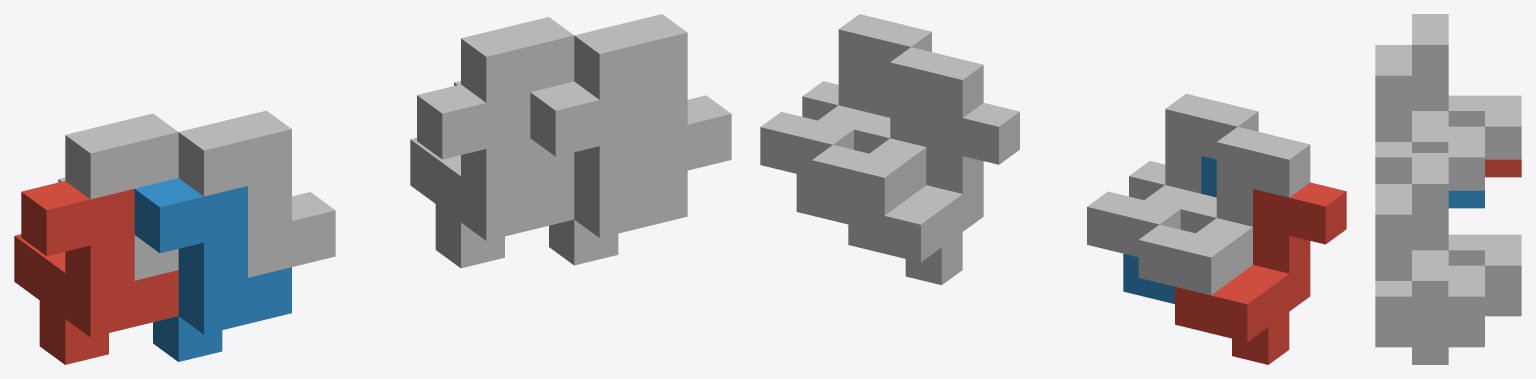
File: tiling.obj
3 renders of one model, left to right at view 1: azimuth 30°, elevation 25°; view 2: azimuth 150°, elevation 25°; view 3: azimuth 270°, elevation 25°, orthographic. The views are drawn at different scales.
Visible parts, largest first — view 1: copy_1_domain_5, copy_1_domain_1, copy_1_domain_6, copy_1_domain_2, copy_1_domain_8, copy_1_domain_4, copy_1_domain_3, copy_1_domain_7; view 2: copy_1_domain_5, copy_1_domain_1, copy_1_domain_3, copy_1_domain_7, copy_1_domain_8, copy_1_domain_4, copy_1_domain_6, copy_1_domain_2; view 3: copy_1_domain_8, copy_1_domain_4, copy_1_domain_3, copy_1_domain_7, copy_1_domain_6, copy_1_domain_1, copy_1_domain_5, copy_1_domain_2.
Boxes of the visible parts, x1,y1,x2,y2 form: copy_1_domain_5: (410, 84, 574, 268); copy_1_domain_1: (14, 181, 178, 364); copy_1_domain_6: (530, 81, 687, 265); copy_1_domain_2: (134, 178, 291, 361); copy_1_domain_8: (574, 14, 731, 180); copy_1_domain_4: (178, 110, 335, 277); copy_1_domain_3: (58, 113, 178, 280); copy_1_domain_7: (454, 17, 574, 183); copy_1_domain_5: (848, 103, 1019, 285); copy_1_domain_1: (1175, 182, 1346, 364); copy_1_domain_3: (1138, 127, 1310, 295); copy_1_domain_7: (812, 47, 983, 215); copy_1_domain_8: (760, 14, 931, 177); copy_1_domain_4: (1087, 93, 1258, 257); copy_1_domain_6: (796, 76, 890, 224); copy_1_domain_2: (1123, 156, 1216, 303); copy_1_domain_8: (1375, 184, 1484, 347); copy_1_domain_4: (1375, 45, 1484, 190); copy_1_domain_3: (1412, 14, 1521, 159); copy_1_domain_7: (1412, 153, 1521, 298); copy_1_domain_6: (1375, 329, 1484, 364); copy_1_domain_1: (1485, 159, 1521, 177); copy_1_domain_5: (1485, 298, 1521, 316); copy_1_domain_2: (1448, 190, 1484, 208).
Bounding box in the file's own units: 15 × 5 × 4.
